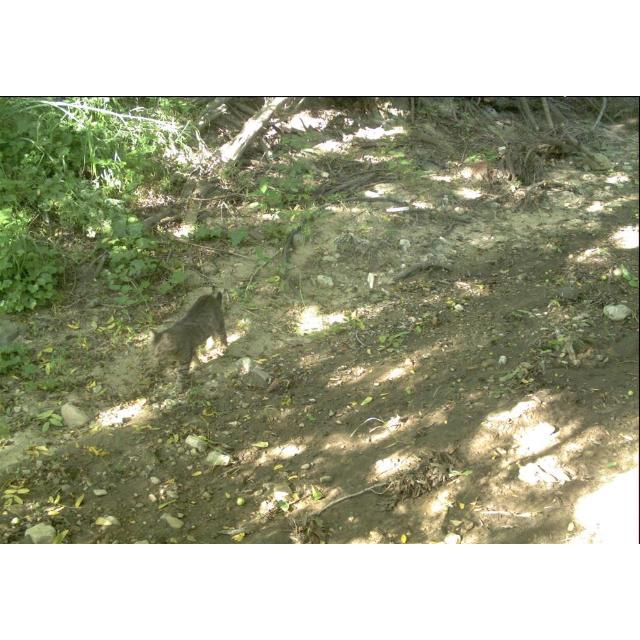animals: (147, 289, 230, 397)
